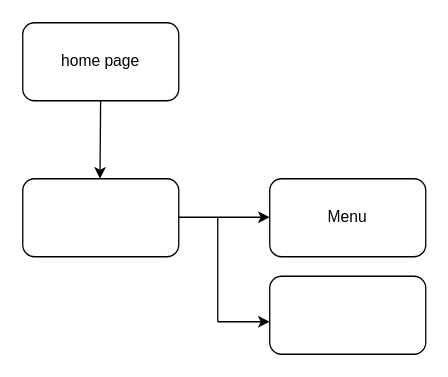
Some shapes in this 448 by 377 pixel diagram are drawn without their labels. The centre of each missing label's shape, as x and y in pixels:
"About Us" goes at (347,314).
"Nav link" goes at (100,217).
